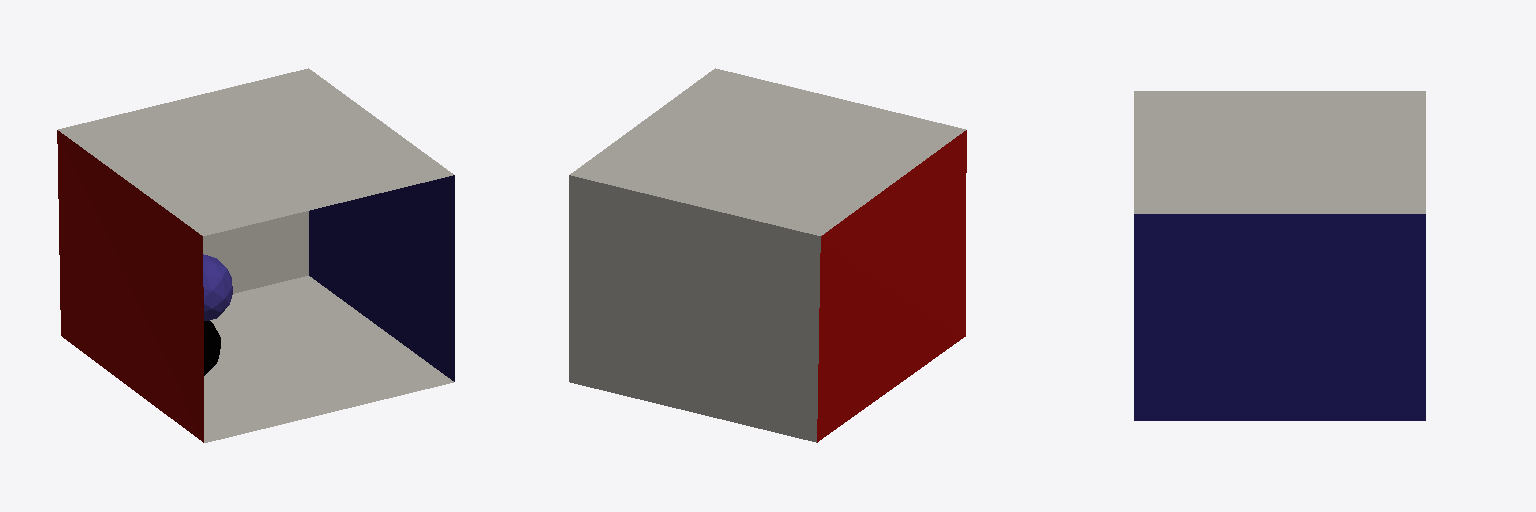
The model's file is CornellBox-Sphere-899.obj.
3 views of the same model, side by side, from view 1: azimuth 30°, elevation 25°; view 2: azimuth 150°, elevation 25°; view 3: azimuth 270°, elevation 25° (orthographic).
Parts seen in each view (by area): view 1: ceiling, leftWall, floor, rightWall, backWall, leftSphere, rightSphere; view 2: backWall, ceiling, leftWall; view 3: rightWall, ceiling.
Boxes of the visible parts, box(x1,y1,x2,y2) form: ceiling: box(58, 68, 453, 235); leftWall: box(57, 130, 203, 442); floor: box(204, 276, 453, 442); rightWall: box(309, 175, 454, 381); backWall: box(203, 211, 308, 293); leftSphere: box(203, 254, 232, 320); rightSphere: box(204, 321, 220, 375); backWall: box(569, 175, 820, 442); ceiling: box(570, 68, 965, 235); leftWall: box(817, 130, 966, 442); rightWall: box(1134, 214, 1425, 420); ceiling: box(1134, 91, 1425, 213).
Size of the model in its own units: 2.02 by 1.59 by 2.03.